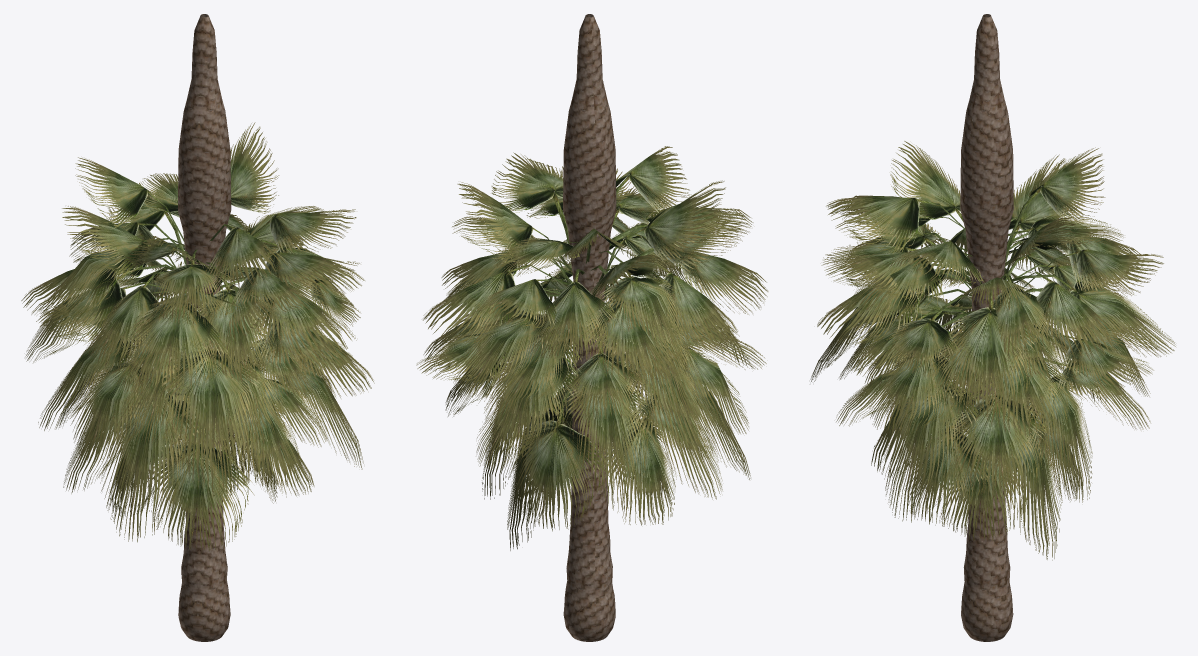
The model's file is plant_series__palm_tree.glb.
3 views of the same model, side by side, from view 1: azimuth 30°, elevation 25°; view 2: azimuth 150°, elevation 25°; view 3: azimuth 270°, elevation 25° (orthographic).
Visible parts, largest first — view 1: PalmLeaf_PalmLeaf_0, PalmBark_PalmBark_0; view 2: PalmLeaf_PalmLeaf_0, PalmBark_PalmBark_0; view 3: PalmLeaf_PalmLeaf_0, PalmBark_PalmBark_0.
Part boxes in pixels (x1,y1,x2,y2): PalmLeaf_PalmLeaf_0: (21, 122, 374, 551); PalmBark_PalmBark_0: (178, 14, 231, 641); PalmLeaf_PalmLeaf_0: (416, 146, 768, 550); PalmBark_PalmBark_0: (563, 14, 616, 641); PalmLeaf_PalmLeaf_0: (810, 141, 1175, 560); PalmBark_PalmBark_0: (960, 14, 1013, 641).
Size of the model in its own units: 141160 by 273469 by 152064.
Materials: 2 (2 with a texture image).
